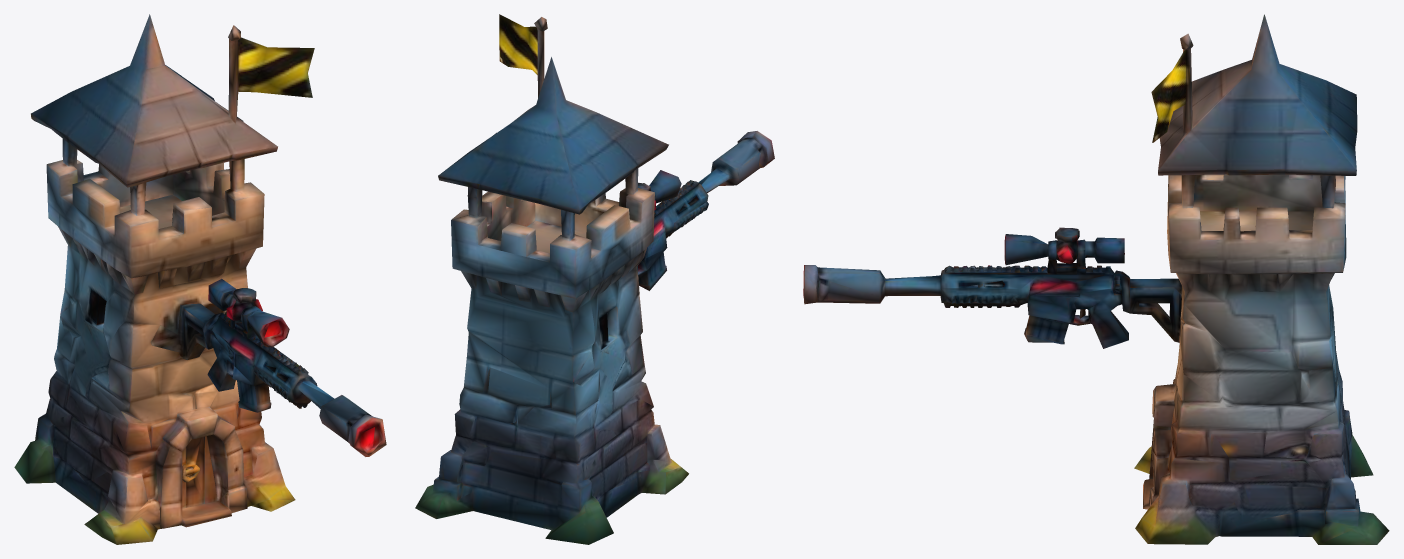
Rendered from jujita-3.glb.
3 renders of one model, left to right at view 1: azimuth 30°, elevation 25°; view 2: azimuth 150°, elevation 25°; view 3: azimuth 270°, elevation 25°, orthographic. The views are drawn at different scales.
Visible parts, largest first — view 1: node_0; view 2: node_0; view 3: node_0.
Boxes of the visible parts, x1,y1,x2,y2 form: node_0: (14,14,386,544); node_0: (415,14,774,544); node_0: (803,14,1389,544).
Bounding box in the file's own units: 0.3662 × 0.8022 × 0.8705.
1 material, 1 textured.
